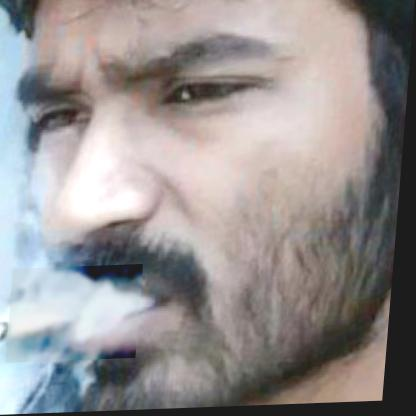smoke: (12, 265, 148, 363)
